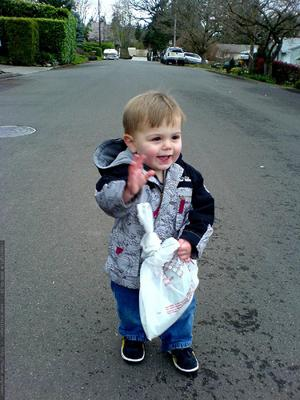person: (95, 90, 218, 377)
